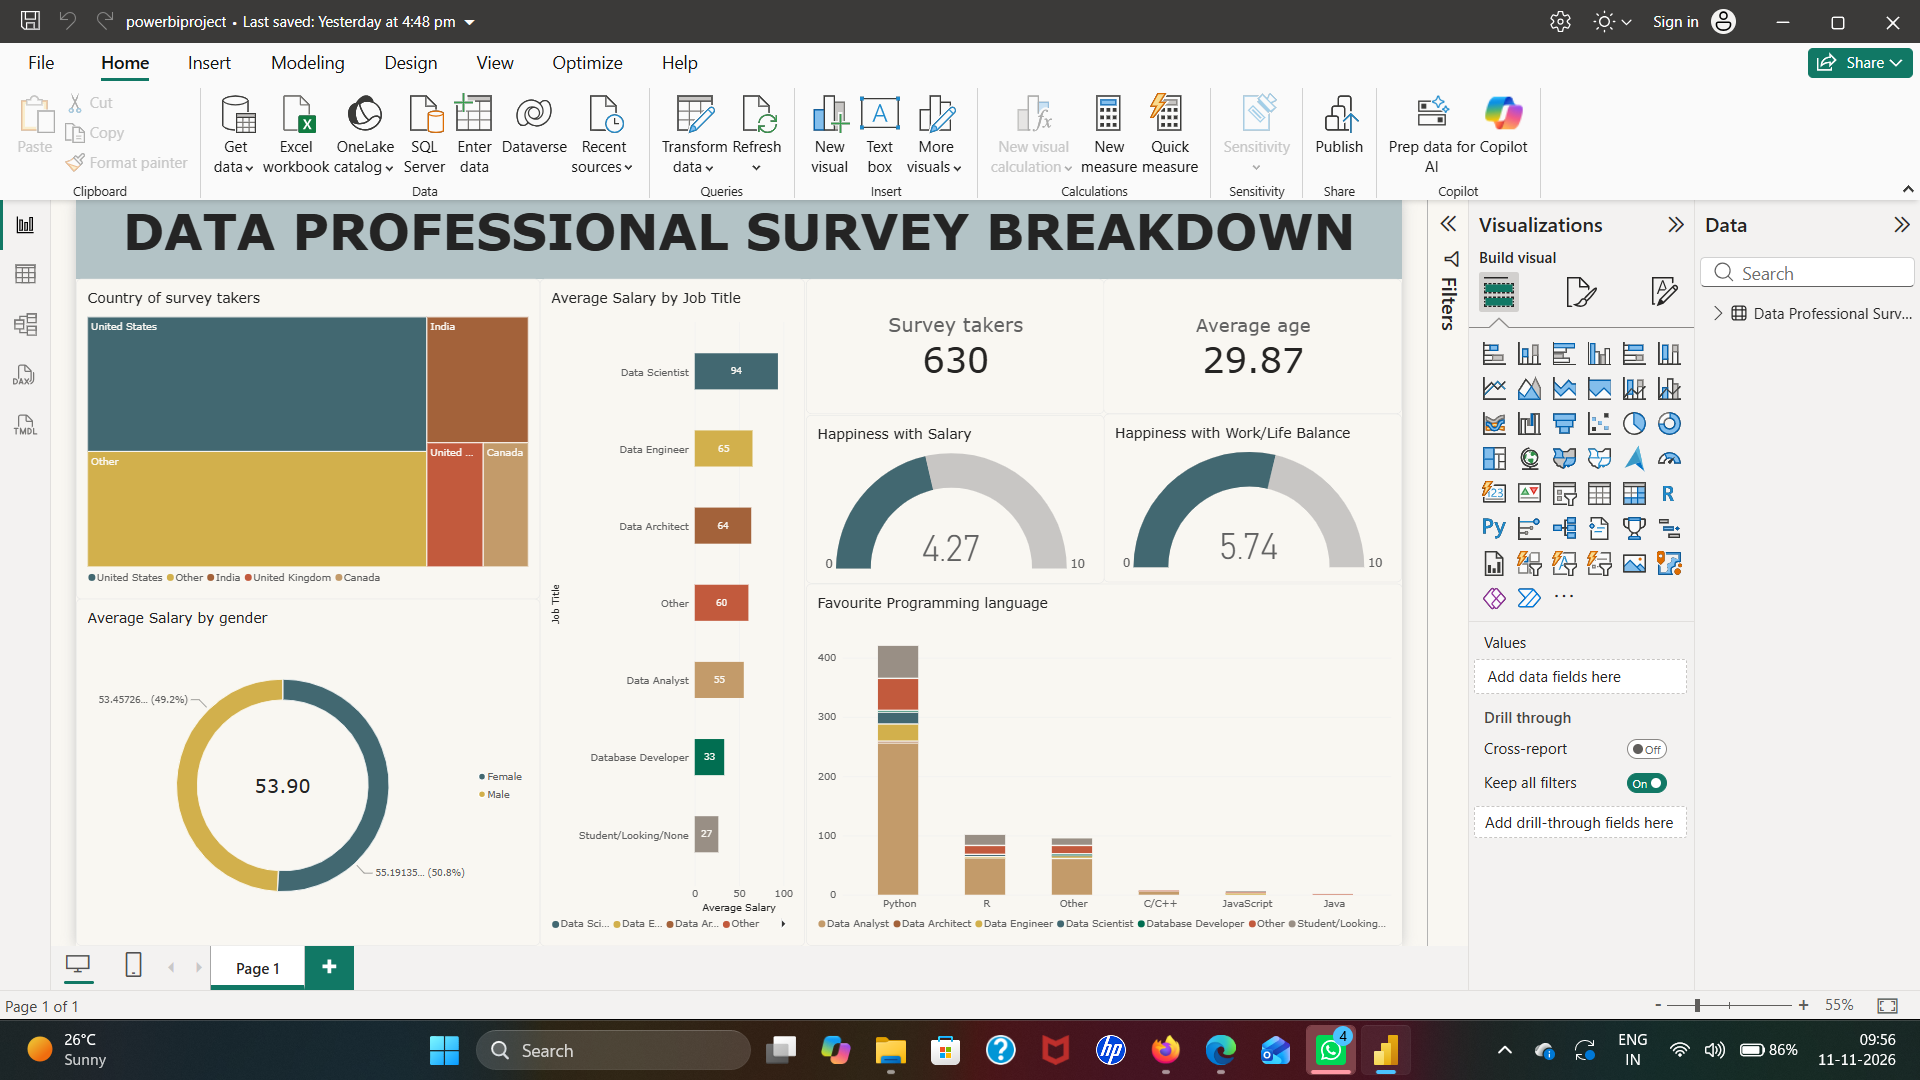

This screenshot's page, from the dashboard's own definition file:
{"tool":"powerbi","page":{"name":"Page 1","canvas":[1920,1080],"ordinal":0},"visuals":[{"type":"textbox","box":[0,0,1920,114],"z":0},{"type":"cardVisual","fields":{"Data":["CountNonNull(Data Professional Survey.Unique ID)"]},"box":[1056,114,432,196],"z":1},{"type":"cardVisual","fields":{"Data":["Avg(Data Professional Survey.Q10 - Current Age)"]},"box":[1488,114,432,196],"z":2},{"type":"barChart","title":"Average Salary by Job Title","fields":{"Category":["Data Professional Survey.Q1 - Which Title Best Fits your Current Role?.1"],"Series":["Data Professional Survey.Q1 - Which Title Best Fits your Current Role?.1"],"Y":["Avg(Data Professional Survey.Average Salary)"]},"box":[672,114,384,966],"z":3},{"type":"columnChart","title":"Favourite Programming language","fields":{"Category":["Data Professional Survey.Q5 - Favorite Programming Language.1"],"Series":["Data Professional Survey.Q1 - Which Title Best Fits your Current Role?.1"],"Y":["CountNonNull(Data Professional Survey.Unique ID)"]},"box":[1056,556,864,524],"z":4},{"type":"treemap","title":"Country of survey takers","fields":{"Group":["Data Professional Survey.Q11 - Which Country do you live in?.1"],"Values":["CountNonNull(Data Professional Survey.Q11 - Which Country do you live in?.1)"]},"box":[0,114,672,464],"z":5},{"type":"gauge","title":" Happiness with Work/Life Balance","fields":{"MaxValue":["Max(Data Professional Survey.Q6 - How Happy are you in your Current Position with the following? (Work/Life Balance))"],"MinValue":["Min(Data Professional Survey.Q6 - How Happy are you in your Current Position with the following? (Work/Life Balance))"],"Y":["Avg(Data Professional Survey.Q6 - How Happy are you in your Current Position with the following? (Work/Life Balance))"]},"box":[1488,310,432,244],"z":6},{"type":"gauge","title":"Happiness with Salary","fields":{"MaxValue":["Max(Data Professional Survey.Q6 - How Happy are you in your Current Position with the following? (Salary))"],"MinValue":["Min(Data Professional Survey.Q6 - How Happy are you in your Current Position with the following? (Salary))"],"Y":["Avg(Data Professional Survey.Q6 - How Happy are you in your Current Position with the following? (Salary))"]},"box":[1056,312,432,244],"z":7},{"type":"donutChart","title":"Average Salary by gender","fields":{"Category":["Data Professional Survey.Q9 - Male/Female?"],"Y":["Avg(Data Professional Survey.Average Salary)"]},"box":[0,578,672,502],"z":8}]}

Visuals, with their boxes on the page's 1920x1080 design canvas (x1, y1, x2, y2). These are canvas units, not pixel positions in the 1920x1080 screenshot, which may show the page scaled, cropped or inside an application window:
textbox: x1=0, y1=0, x2=1920, y2=114
cardVisual - CountNonNull(Data Professional Survey.Unique ID): x1=1056, y1=114, x2=1488, y2=310
cardVisual - Avg(Data Professional Survey.Q10 - Current Age): x1=1488, y1=114, x2=1920, y2=310
"Average Salary by Job Title" barChart: x1=672, y1=114, x2=1056, y2=1080
"Favourite Programming language" columnChart: x1=1056, y1=556, x2=1920, y2=1080
"Country of survey takers" treemap: x1=0, y1=114, x2=672, y2=578
" Happiness with Work/Life Balance" gauge: x1=1488, y1=310, x2=1920, y2=554
"Happiness with Salary" gauge: x1=1056, y1=312, x2=1488, y2=556
"Average Salary by gender" donutChart: x1=0, y1=578, x2=672, y2=1080
